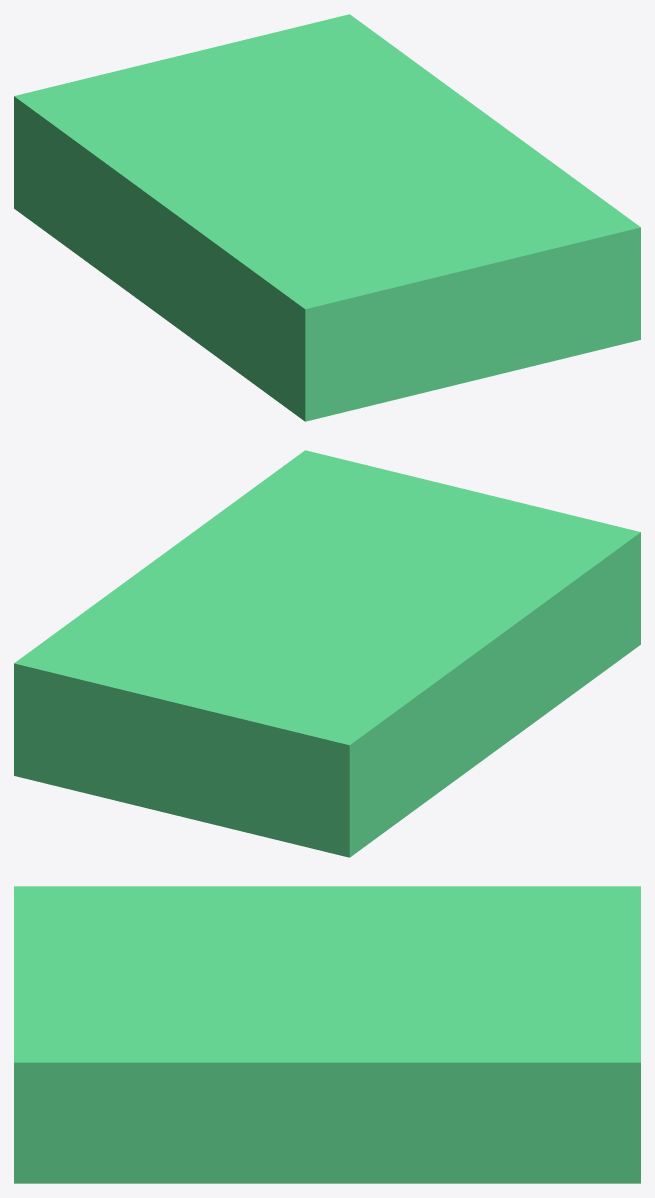
Rendered from rubble_pile_g.glb.
3 views of the same model, one above another, from view 1: azimuth 30°, elevation 25°; view 2: azimuth 150°, elevation 25°; view 3: azimuth 270°, elevation 25° (orthographic). The views are drawn at different scales.
Visible parts, largest first — view 1: rubble_pile_g-col; view 2: rubble_pile_g-col; view 3: rubble_pile_g-col.
Part boxes in pixels (bbox=[...]): rubble_pile_g-col: bbox=[14, 14, 640, 421]; rubble_pile_g-col: bbox=[14, 450, 640, 857]; rubble_pile_g-col: bbox=[14, 886, 640, 1183].
Bounding box in the file's own units: 2.39 × 0.7636 × 3.58.
